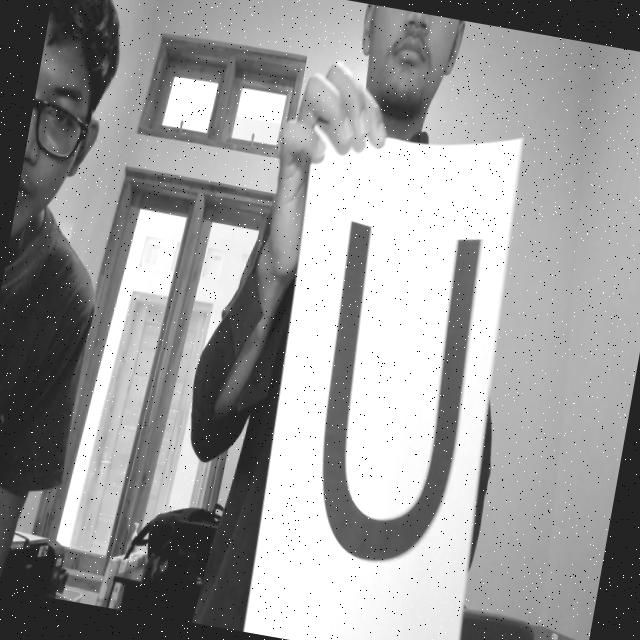u: (267, 190, 516, 594)
